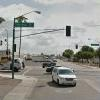Traffic light: (59, 18, 80, 43)
